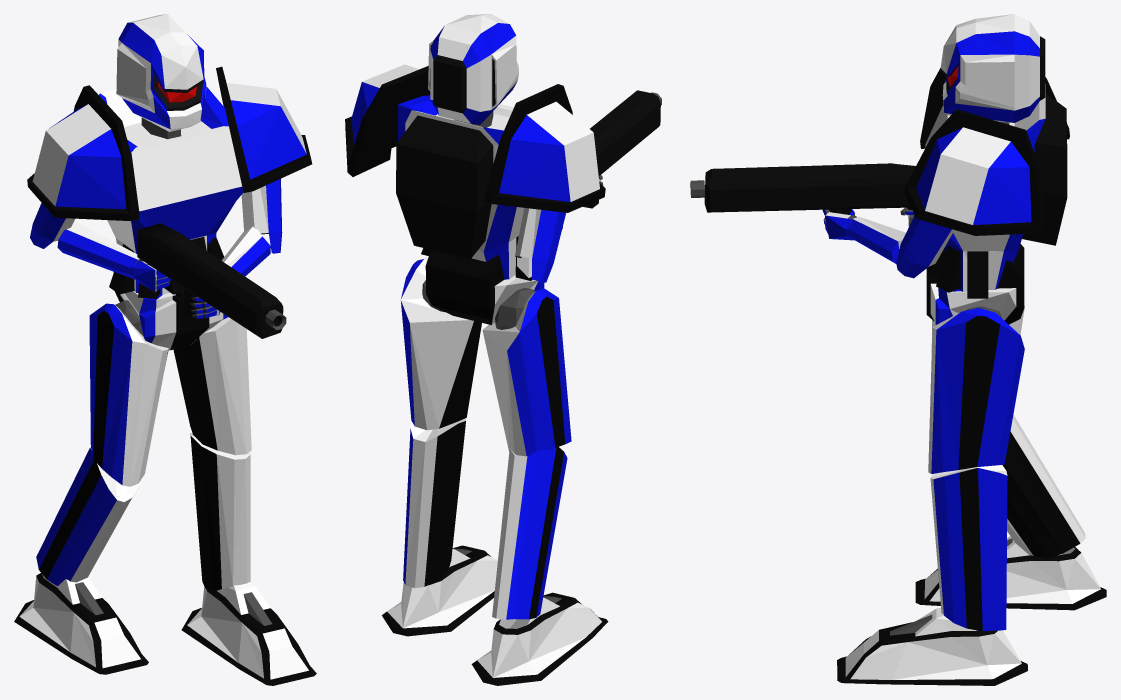
The model's file is robot_animation_000010.obj.
The picture shows the model from 3 angles, left to right: view 1: azimuth 30°, elevation 25°; view 2: azimuth 150°, elevation 25°; view 3: azimuth 270°, elevation 25°; orthographic projection.
Visible parts, largest first — view 1: Chest_plate_Cube.004, R_Thigh_Cube.005, Cube.002_Cube.059, Head_base_Cube.022, R_Thigh.002_Cube.027, R_Foot.002_Cube.035, R_Shin.002_Cube.029, R_Foot_Cube, Cube_Cube.001, R_Shin_Cube.007, Cube_Cube.021, Pelvis_Cube.006 (+5 smaller); view 2: Chest_plate_Cube.004, Cube.002_Cube.059, R_Thigh_Cube.005, R_Shin_Cube.007, R_Thigh.002_Cube.027, Head_base_Cube.022, R_Shin.002_Cube.029, R_Foot_Cube, R_Foot.002_Cube.035, Cube_Cube.021, Pelvis_Cube.006, Cube_Cube.001 (+2 smaller); view 3: Cube_Cube.021, R_Thigh.002_Cube.027, R_Shin.002_Cube.029, R_Foot.002_Cube.035, Head_base_Cube.022, Cube_Cube.001, Chest_plate_Cube.004, R_Shin_Cube.007, R_Foot_Cube, Pelvis_Cube.006, L_Arm_Cube.014, L_Forearm_Cube.020 (+2 smaller).
Boxes of the visible parts, x1=… form: Chest_plate_Cube.004: x1=99, y1=87, x2=243, y2=298; R_Thigh_Cube.005: x1=89, y1=303, x2=168, y2=486; Cube.002_Cube.059: x1=27, y1=85, x2=139, y2=220; Head_base_Cube.022: x1=116, y1=14, x2=206, y2=131; R_Thigh.002_Cube.027: x1=173, y1=317, x2=251, y2=455; R_Foot.002_Cube.035: x1=181, y1=582, x2=316, y2=685; R_Shin.002_Cube.029: x1=190, y1=433, x2=250, y2=591; R_Foot_Cube: x1=14, y1=573, x2=148, y2=674; Cube_Cube.001: x1=137, y1=223, x2=286, y2=338; R_Shin_Cube.007: x1=36, y1=446, x2=141, y2=585; Cube_Cube.021: x1=216, y1=66, x2=312, y2=192; Pelvis_Cube.006: x1=113, y1=272, x2=227, y2=350; Chest_plate_Cube.004: x1=396, y1=95, x2=532, y2=280; Cube.002_Cube.059: x1=484, y1=84, x2=605, y2=212; R_Thigh_Cube.005: x1=482, y1=288, x2=571, y2=456; R_Shin_Cube.007: x1=492, y1=447, x2=567, y2=619; R_Thigh.002_Cube.027: x1=400, y1=258, x2=481, y2=430; Head_base_Cube.022: x1=428, y1=14, x2=518, y2=124; R_Shin.002_Cube.029: x1=403, y1=418, x2=465, y2=588; R_Foot_Cube: x1=471, y1=592, x2=608, y2=685; R_Foot.002_Cube.035: x1=382, y1=545, x2=497, y2=636; Cube_Cube.021: x1=345, y1=64, x2=430, y2=176; Pelvis_Cube.006: x1=424, y1=250, x2=544, y2=325; Cube_Cube.001: x1=583, y1=90, x2=661, y2=208; Cube_Cube.021: x1=904, y1=109, x2=1044, y2=235; R_Thigh.002_Cube.027: x1=928, y1=308, x2=1024, y2=473; R_Shin.002_Cube.029: x1=930, y1=465, x2=1007, y2=631; R_Foot.002_Cube.035: x1=837, y1=608, x2=1027, y2=685; Head_base_Cube.022: x1=940, y1=14, x2=1045, y2=122; Cube_Cube.001: x1=690, y1=163, x2=915, y2=216; Chest_plate_Cube.004: x1=925, y1=84, x2=1067, y2=298; R_Shin_Cube.007: x1=1002, y1=414, x2=1085, y2=558; R_Foot_Cube: x1=915, y1=536, x2=1106, y2=610; Pelvis_Cube.006: x1=926, y1=244, x2=1024, y2=324; L_Arm_Cube.014: x1=896, y1=215, x2=954, y2=278; L_Forearm_Cube.020: x1=848, y1=216, x2=905, y2=263.
Bounding box in the file's own units: 1.32 × 3.03 × 1.84.
